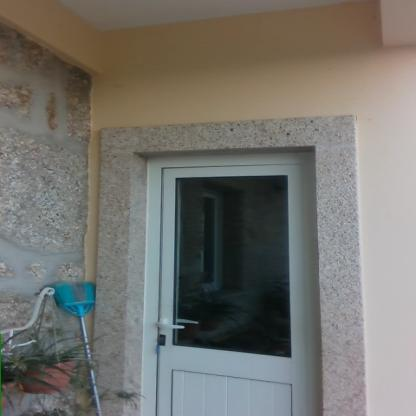closed: (129, 147, 331, 416)
